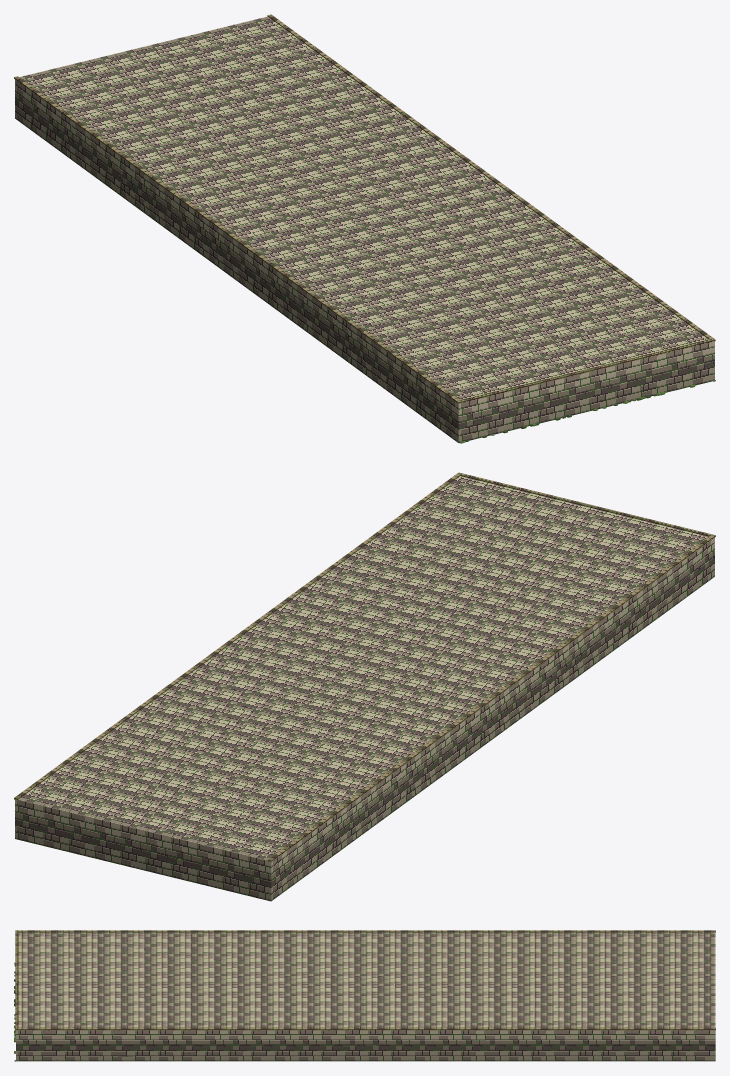
File: scene_wall_w.glb
The picture shows the model from 3 angles, top to bottom: view 1: azimuth 30°, elevation 25°; view 2: azimuth 150°, elevation 25°; view 3: azimuth 270°, elevation 25°; orthographic projection. The views are drawn at different scales.
Parts seen in each view (by area): view 1: scene_wall_w; view 2: scene_wall_w; view 3: scene_wall_w.
Part boxes in pixels (x1=…): scene_wall_w: x1=14, y1=14, x2=715, y2=443; scene_wall_w: x1=14, y1=472, x2=715, y2=901; scene_wall_w: x1=14, y1=930, x2=715, y2=1061.
Bounding box in the file's own units: 24.11 × 3.77 × 72.24.
Materials: 2 (1 with a texture image).
